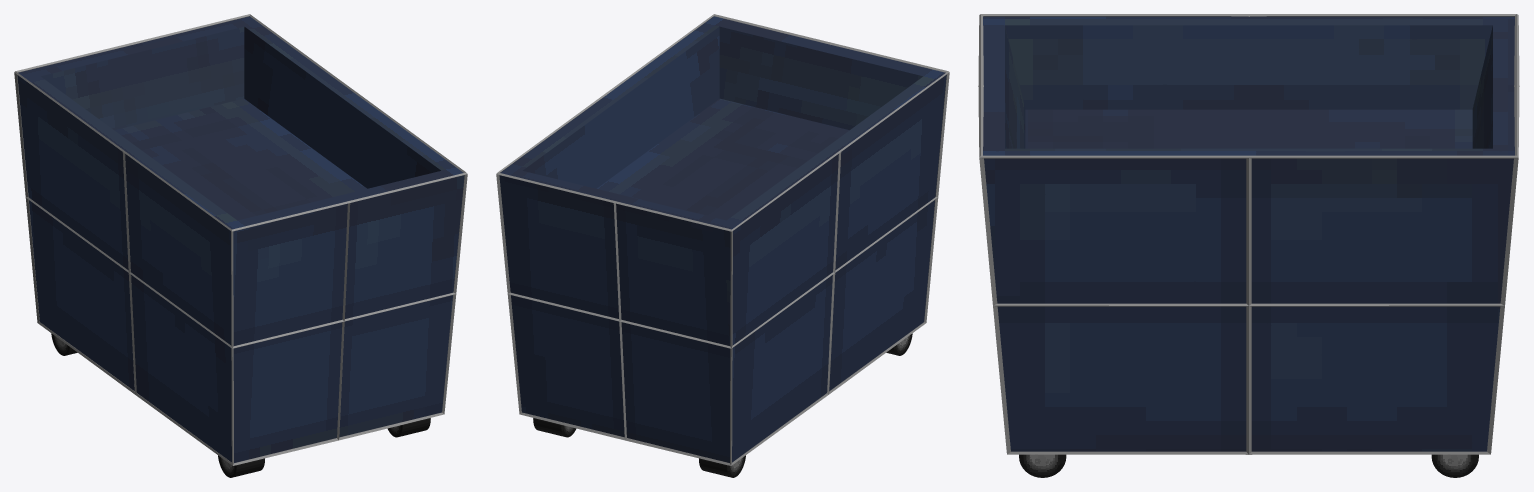
File: cart_static.fbx
3 views of the same model, side by side, from view 1: azimuth 30°, elevation 25°; view 2: azimuth 150°, elevation 25°; view 3: azimuth 270°, elevation 25° (orthographic). The views are drawn at different scales.
Visible parts, largest first — view 1: cart_static; view 2: cart_static; view 3: cart_static.
Part boxes in pixels (x1,y1,x2,y2): cart_static: (14, 14, 467, 477); cart_static: (496, 14, 949, 477); cart_static: (978, 14, 1519, 477).
Bounding box in the file's own units: 1.2 × 1.31 × 1.92.
3 materials, 2 textured.
